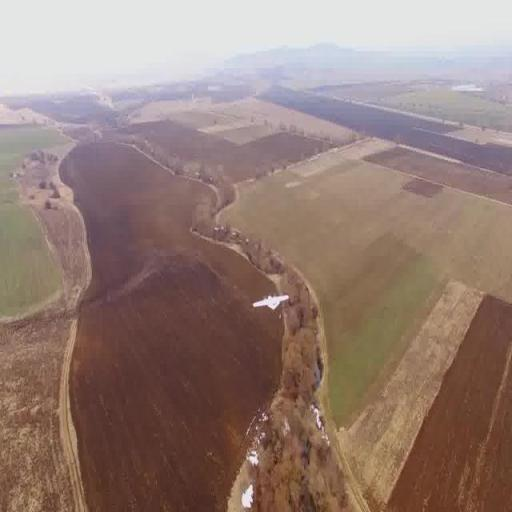uav: (246, 279, 294, 323)
